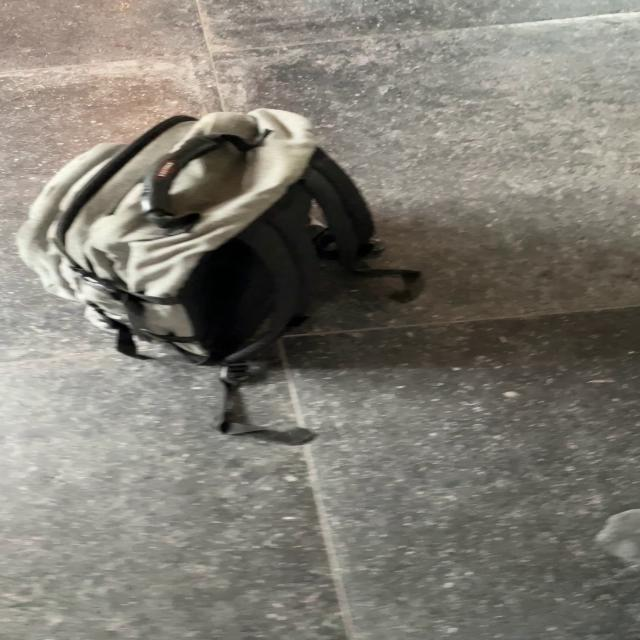backpack: (7, 98, 384, 368)
